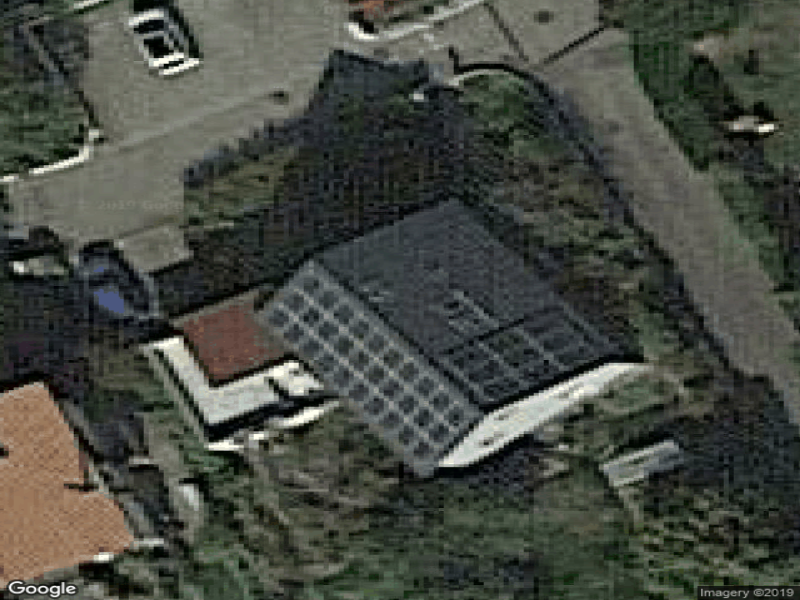pv: (270, 277, 475, 465), (455, 309, 606, 406)
